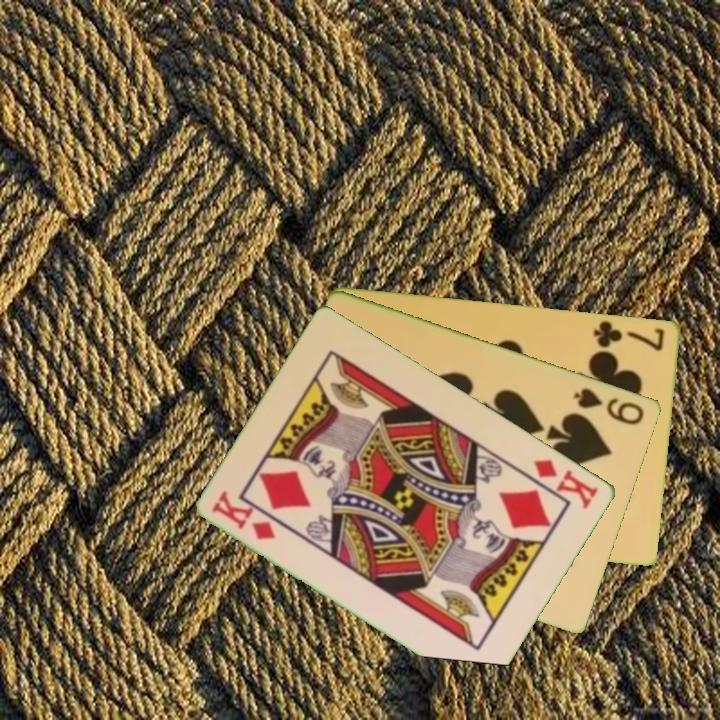7c: (590, 317, 668, 354)
9s: (570, 384, 648, 428)
Kd: (530, 455, 602, 512), (209, 488, 280, 543)
